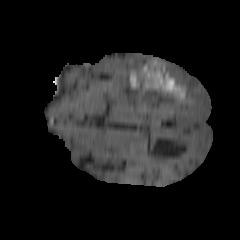glioma: (92, 54, 186, 128)
